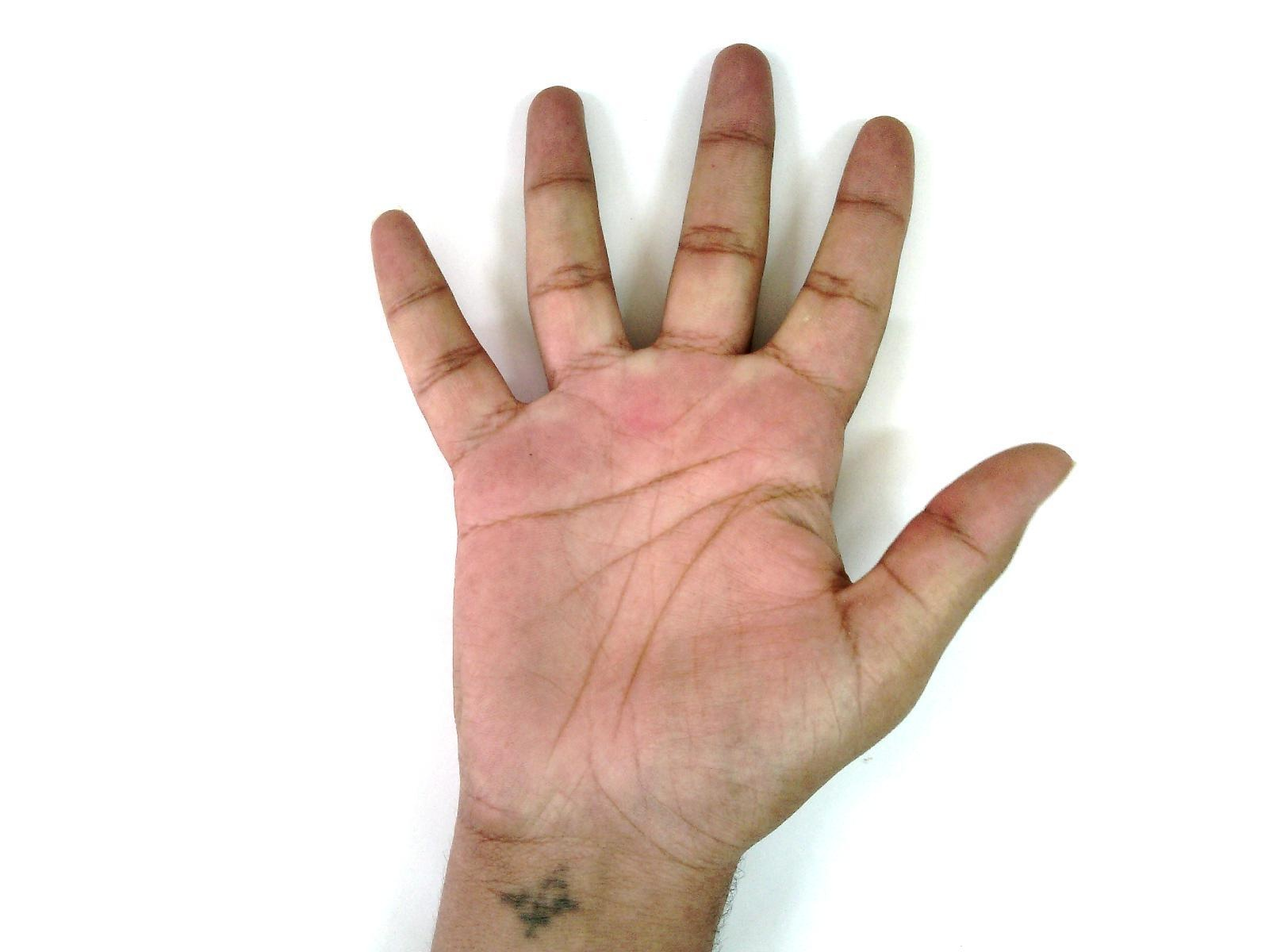open_palm: (366, 42, 1076, 853)
